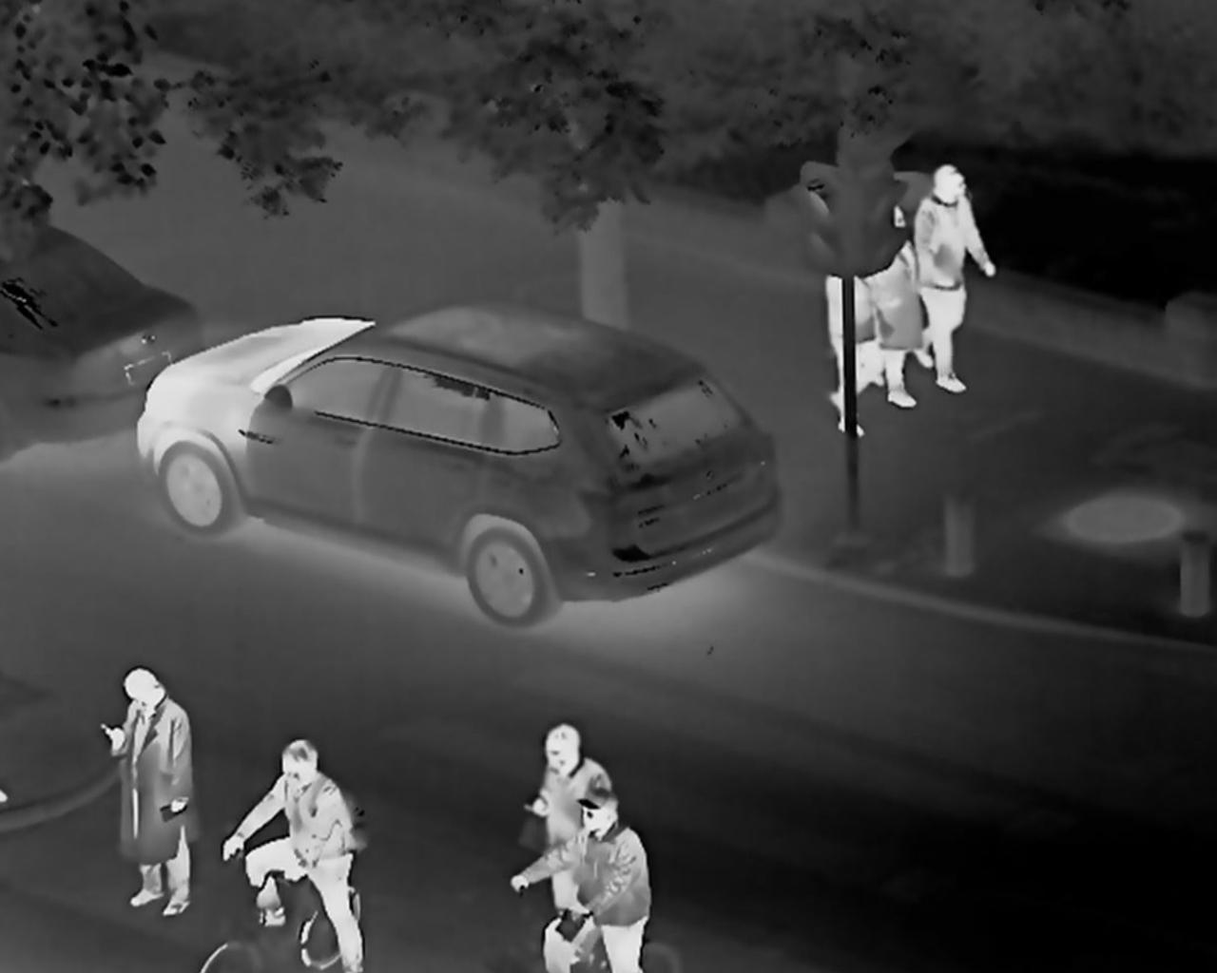person: (221, 739, 369, 971), (507, 782, 653, 973), (96, 666, 194, 919), (912, 162, 995, 394), (526, 723, 611, 937), (867, 199, 919, 411), (821, 269, 879, 443)
